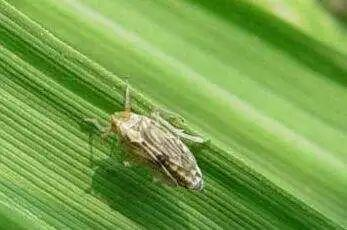Delphacidae: (83, 86, 208, 194)
